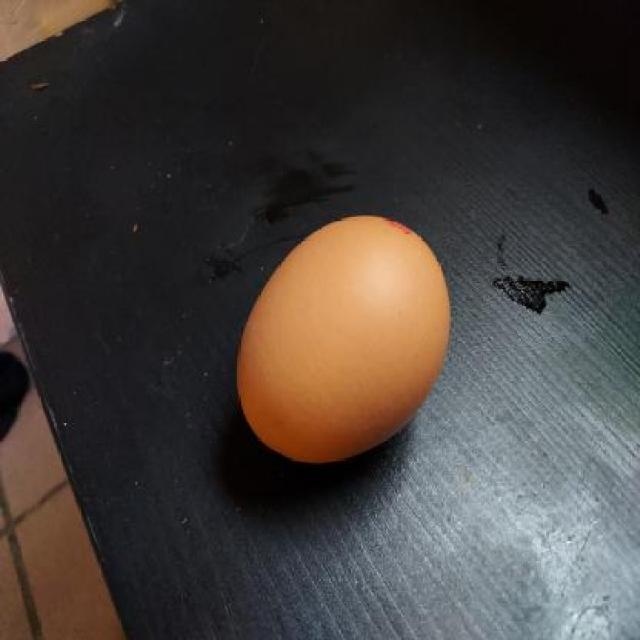biodegradable: (234, 213, 456, 464)
